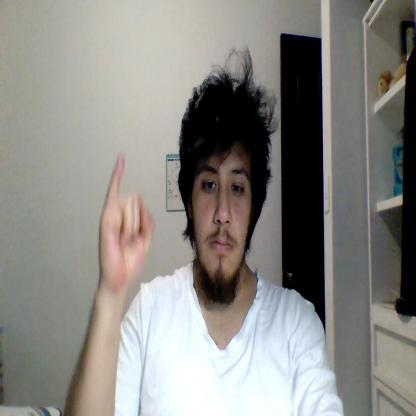I: (99, 152, 156, 292)
